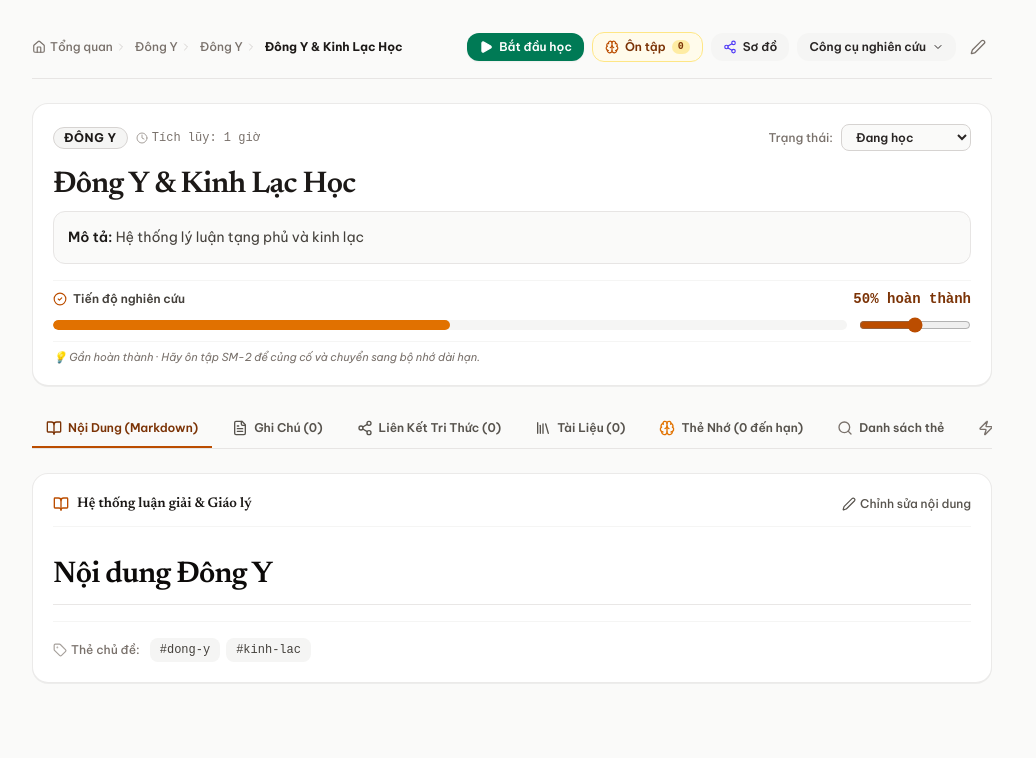
it: Phase F6.5 — Topic Detail Card Browser Integration (TopicDetail.tsx) › 3. clicking 'Duyệt danh sách thẻ' button in Flashcard Hub switches to browser tab
Go to Flashcards Hub tab
Click the button with test id "tab-btn-flashcards" at (731, 429), box left=646, top=410, right=817, bottom=448
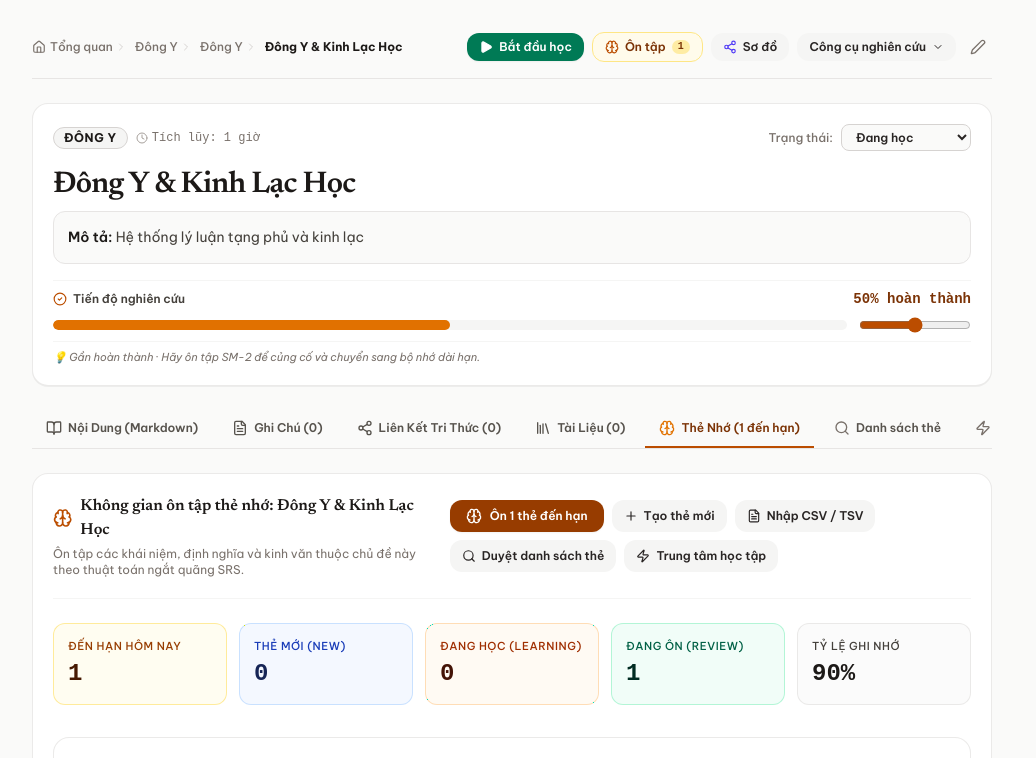
Expected: the button with test id "btn-open-card-browser" is shown
Click the button with test id "btn-open-card-browser" at (533, 556), box left=450, top=540, right=616, bottom=572
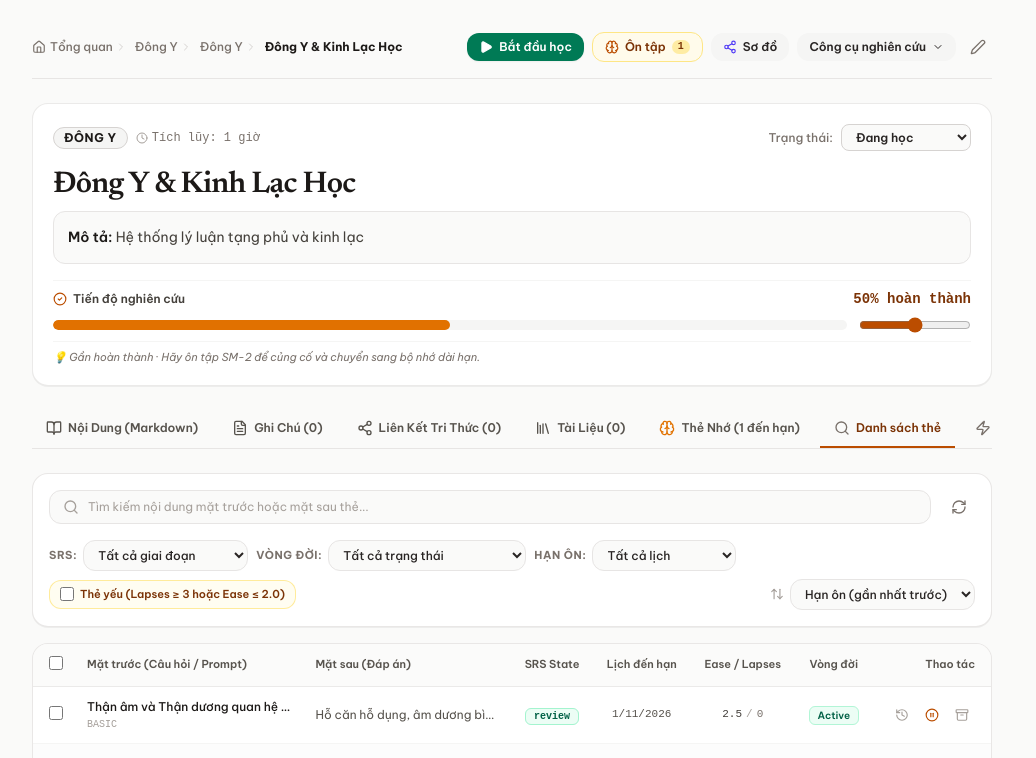
Expected: the field with test id "input-card-search" is shown, left=49, top=490, right=931, bottom=524
